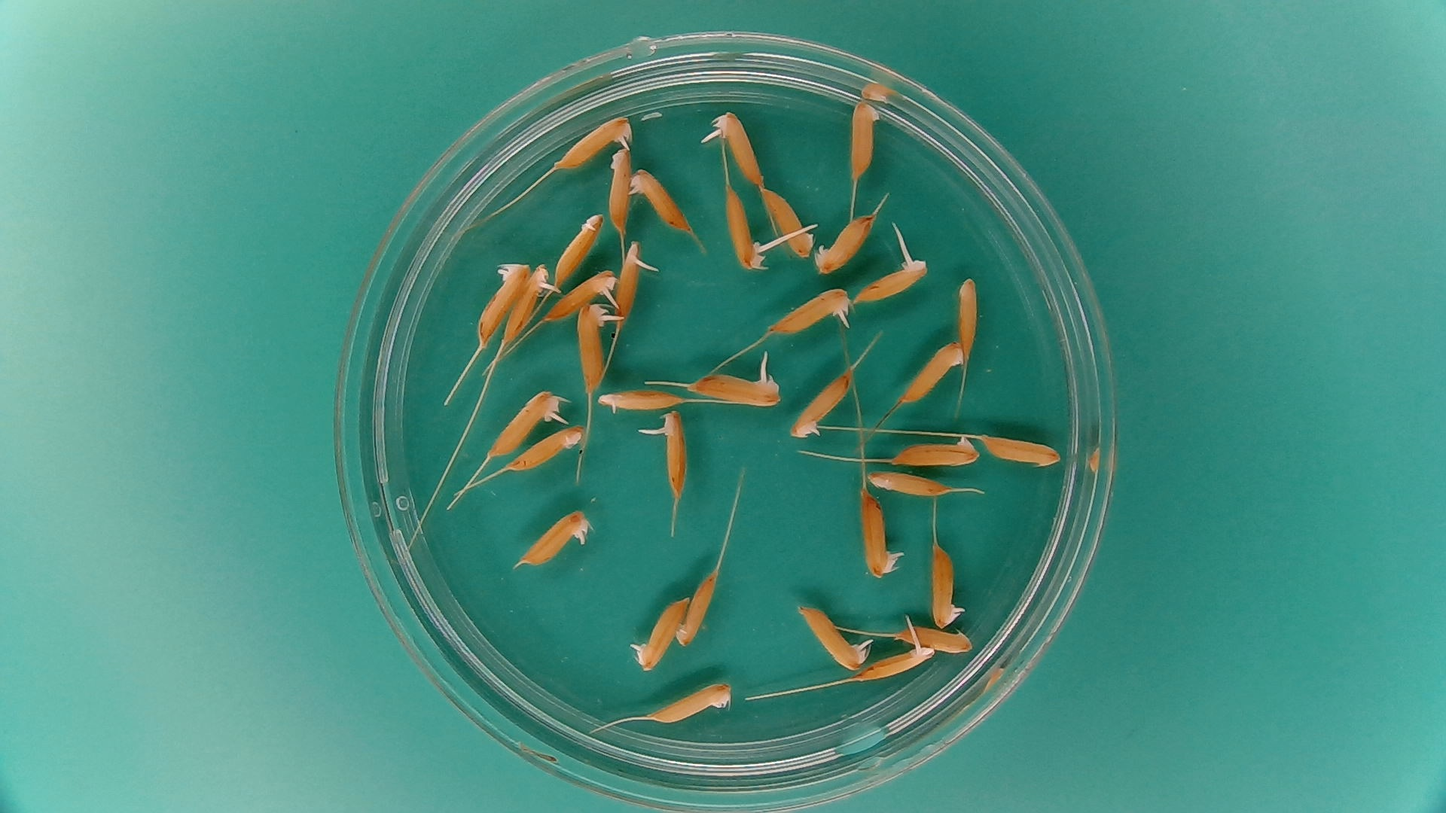no: (789, 367, 856, 441), (472, 257, 527, 347), (896, 340, 965, 406), (629, 163, 694, 230), (505, 422, 589, 473), (812, 210, 875, 275), (645, 679, 734, 725), (760, 186, 816, 258), (674, 568, 719, 649), (892, 430, 982, 469), (980, 432, 1062, 469), (849, 95, 883, 181), (896, 623, 975, 657), (866, 466, 948, 498), (605, 142, 630, 233), (956, 275, 982, 362)
yes: (794, 601, 874, 671), (485, 389, 566, 458), (551, 110, 636, 172), (766, 285, 852, 337), (630, 594, 687, 671), (858, 485, 904, 580), (543, 267, 619, 324), (502, 260, 554, 343), (522, 505, 593, 564), (716, 107, 766, 187), (648, 409, 689, 504), (576, 300, 617, 392), (555, 209, 606, 282), (725, 188, 767, 274), (688, 370, 777, 410), (856, 251, 926, 301), (859, 638, 936, 681), (616, 239, 654, 318), (596, 385, 687, 416), (930, 540, 961, 626)
